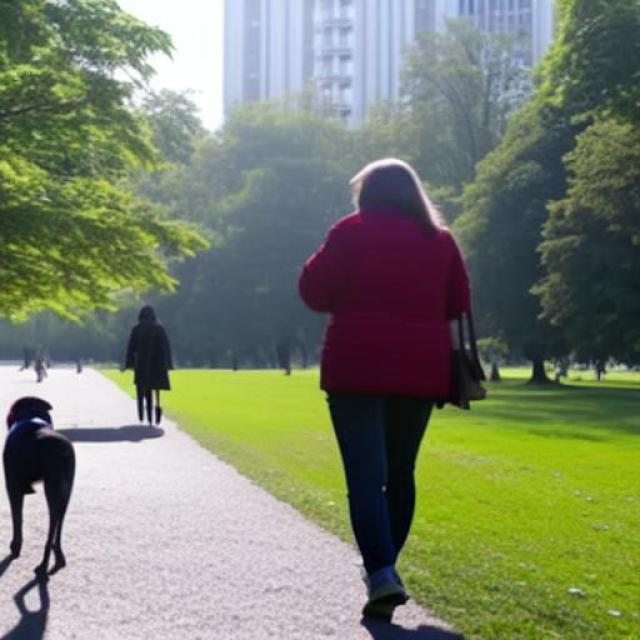Unleashed_Dog: (2, 379, 410, 577)
